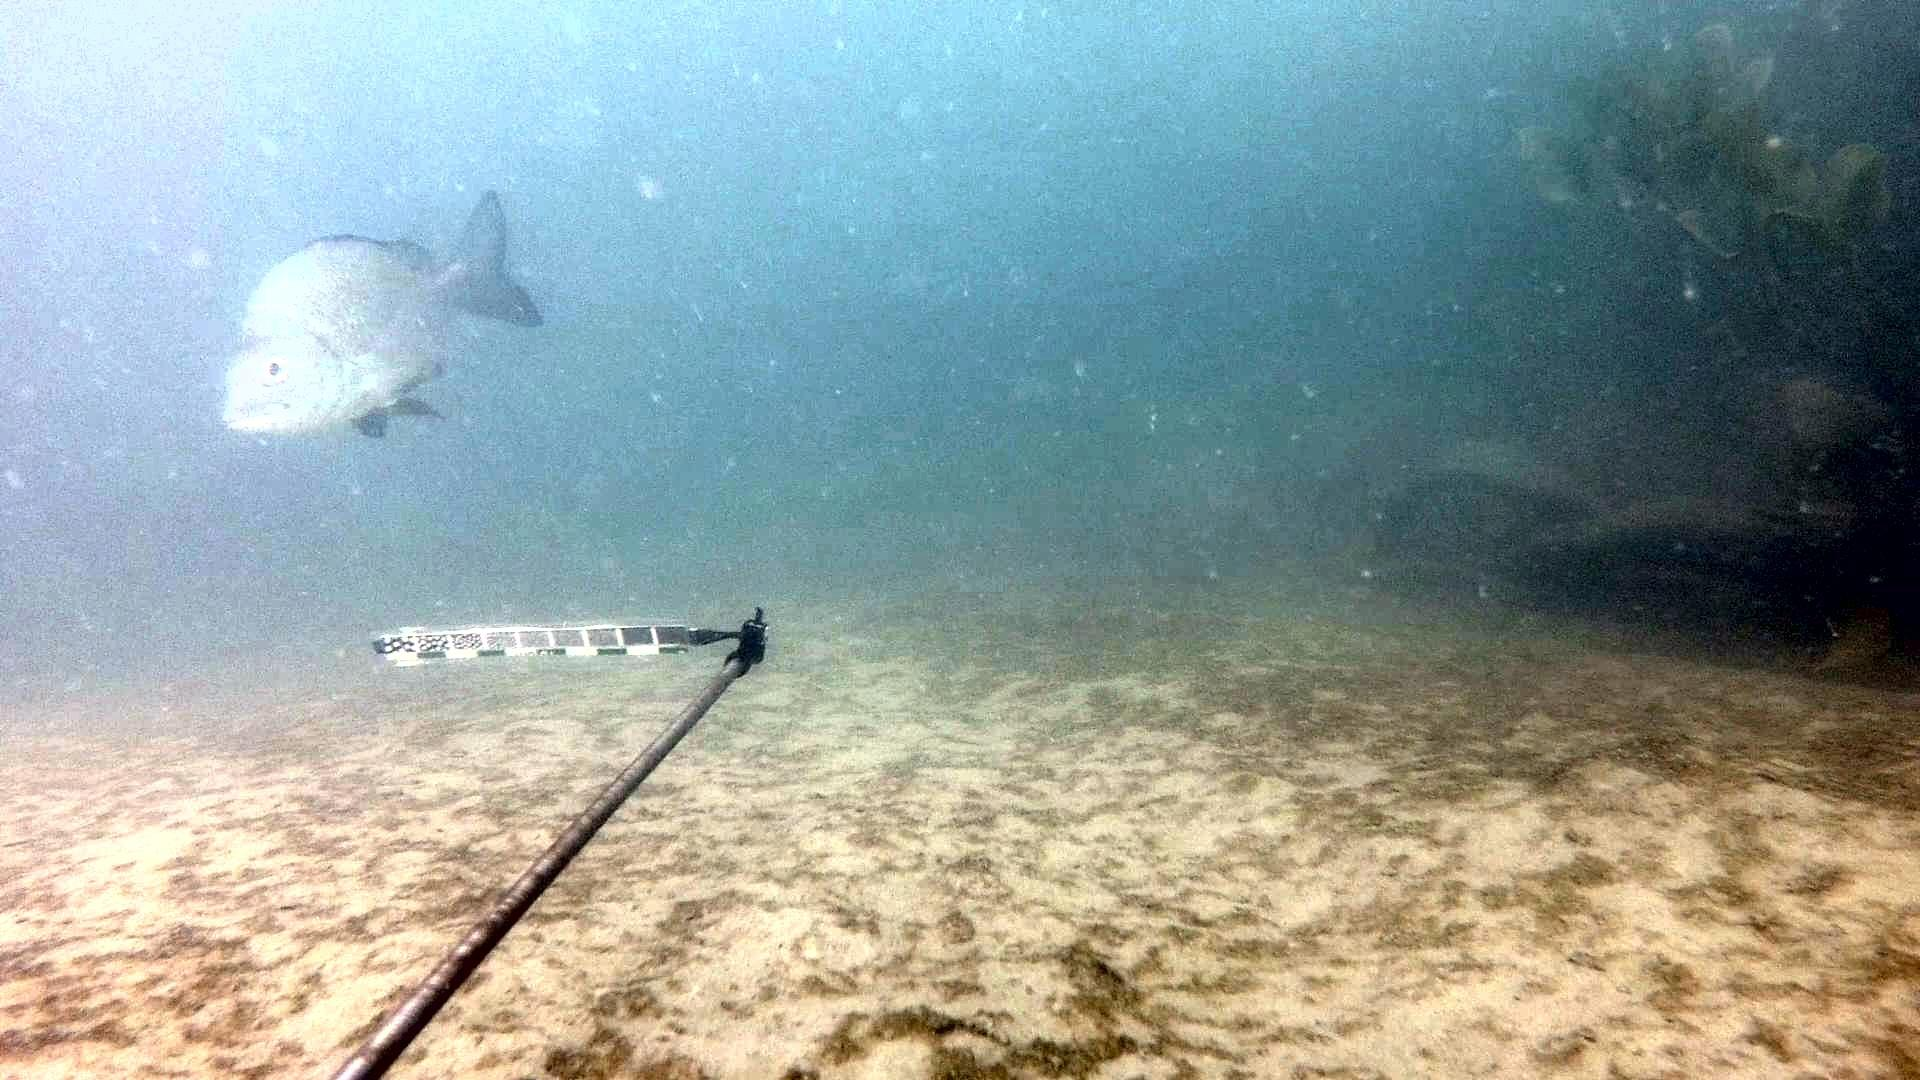acanthopagrus palmaris: (215, 186, 555, 463)
